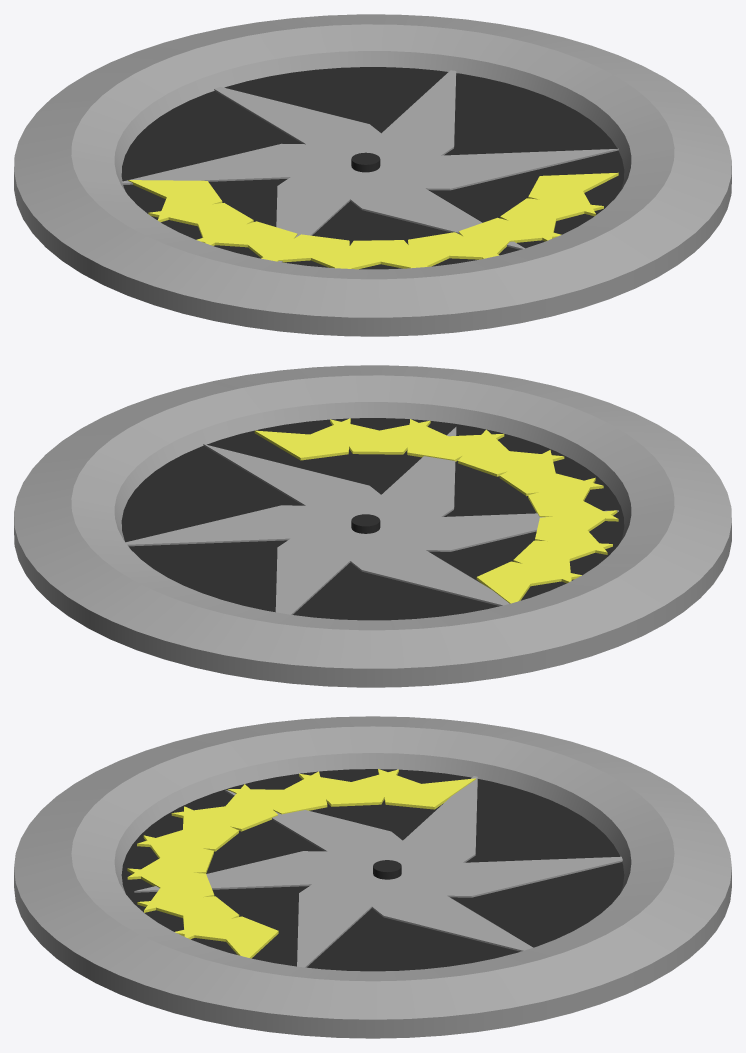
The picture shows the model from 3 angles, top to bottom: view 1: azimuth 30°, elevation 25°; view 2: azimuth 150°, elevation 25°; view 3: azimuth 270°, elevation 25°; orthographic projection.
Parts seen in each view (by area): view 1: rim, recessed_face, blade.001, blade.005, blade.002, blade.006, blade.003, blade.004, cluster.001, cluster.009, cluster.007, cluster.003 (+5 smaller); view 2: rim, recessed_face, blade.003, blade.001, blade.006, blade.005, blade.002, blade.004, cluster.009, cluster.008, cluster.002, cluster.004 (+5 smaller); view 3: rim, recessed_face, blade.003, blade.001, blade.005, blade.002, blade.006, blade.004, cluster.001, cluster.009, cluster.002, cluster.003 (+5 smaller).
Part boxes in pixels (<box>): rim: <box>14,14,731,336</box>; recessed_face: <box>121,67,624,269</box>; blade.001: <box>320,70,456,195</box>; blade.005: <box>298,157,524,249</box>; blade.002: <box>214,87,432,174</box>; blade.006: <box>314,148,618,190</box>; blade.003: <box>122,143,336,201</box>; blade.004: <box>276,148,409,262</box>; cluster.001: <box>128,180,222,222</box>; cluster.009: <box>528,172,618,216</box>; cluster.007: <box>458,217,561,258</box>; cluster.003: <box>196,221,297,261</box>; rim: <box>14,365,731,687</box>; recessed_face: <box>121,418,624,620</box>; blade.003: <box>298,519,509,605</box>; blade.001: <box>125,505,416,562</box>; blade.006: <box>203,444,427,532</box>; blade.005: <box>320,427,456,526</box>; blade.002: <box>275,506,357,614</box>; blade.004: <box>315,492,618,551</box>; cluster.009: <box>254,418,350,460</box>; cluster.008: <box>330,419,430,454</box>; cluster.002: <box>513,540,612,583</box>; cluster.004: <box>528,477,618,521</box>; rim: <box>14,716,731,1038</box>; recessed_face: <box>121,769,624,971</box>; blade.003: <box>341,776,477,902</box>; blade.001: <box>319,864,532,951</box>; blade.005: <box>134,851,405,908</box>; blade.002: <box>419,840,622,897</box>; blade.006: <box>297,862,432,967</box>; blade.004: <box>225,790,402,874</box>; cluster.001: <box>378,769,475,809</box>; cluster.009: <box>175,916,278,958</box>; cluster.002: <box>299,769,398,806</box>; cluster.003: <box>227,771,327,814</box>.
Bounding box in the file's own units: 0.1 × 0.00508 × 0.1.
